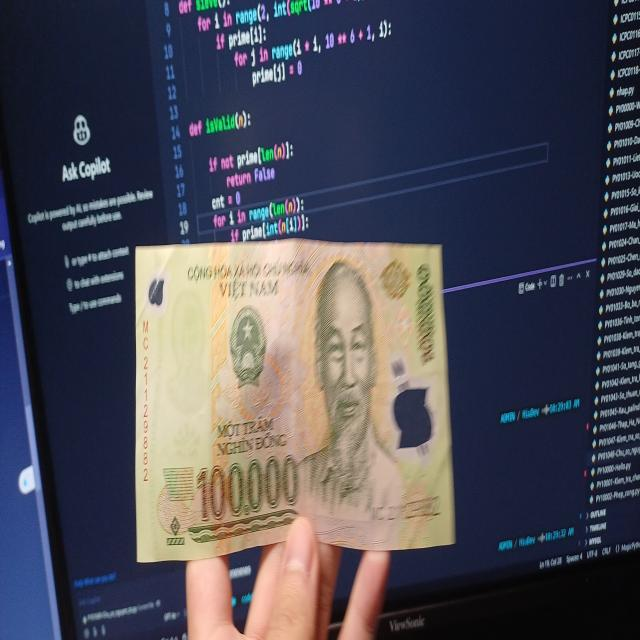100 000 VND: (132, 236, 458, 571)
